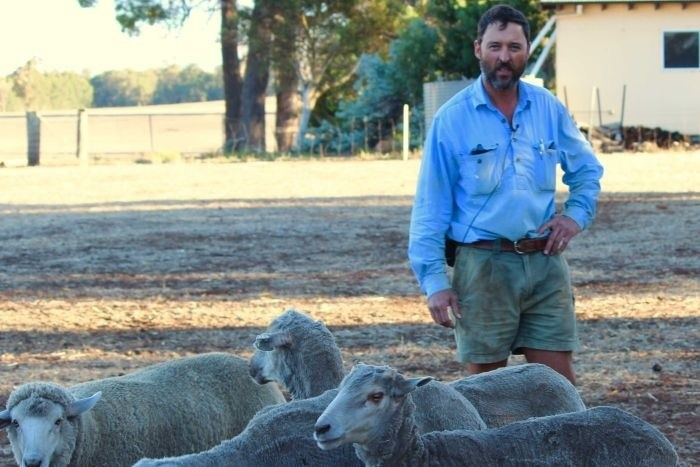face_no_mask: (476, 4, 532, 88)
